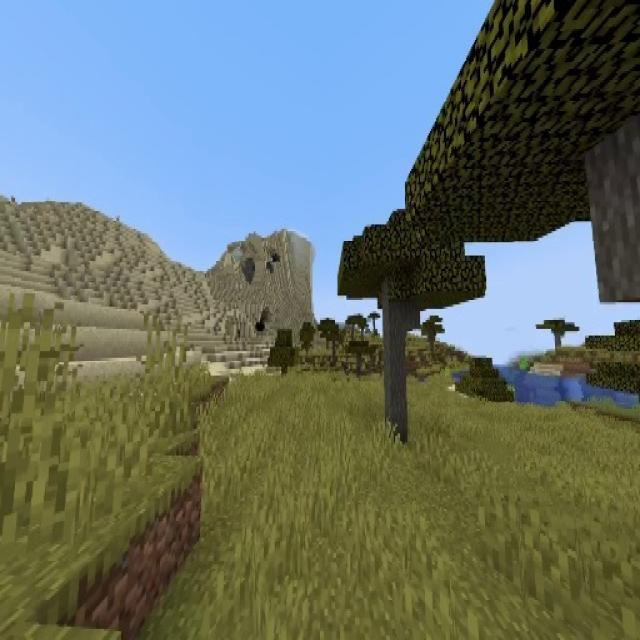acacia: (338, 212, 483, 446)
acacia_log: (383, 296, 408, 446)
oak: (268, 328, 300, 378)
